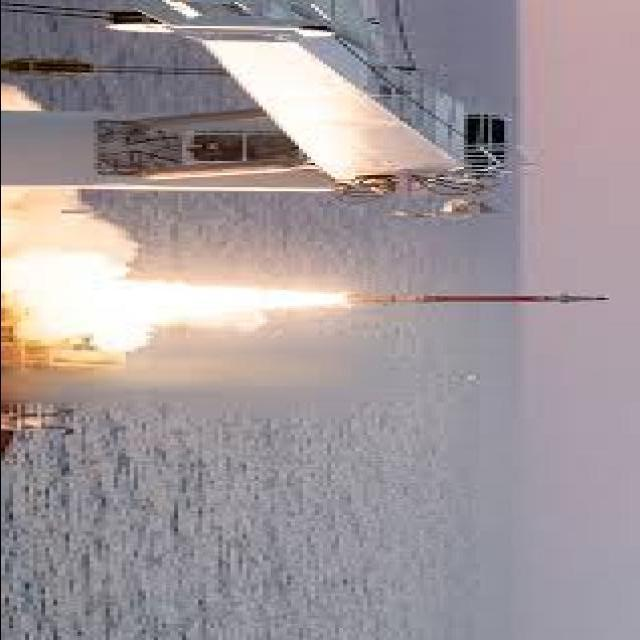missile: (344, 282, 609, 308)
